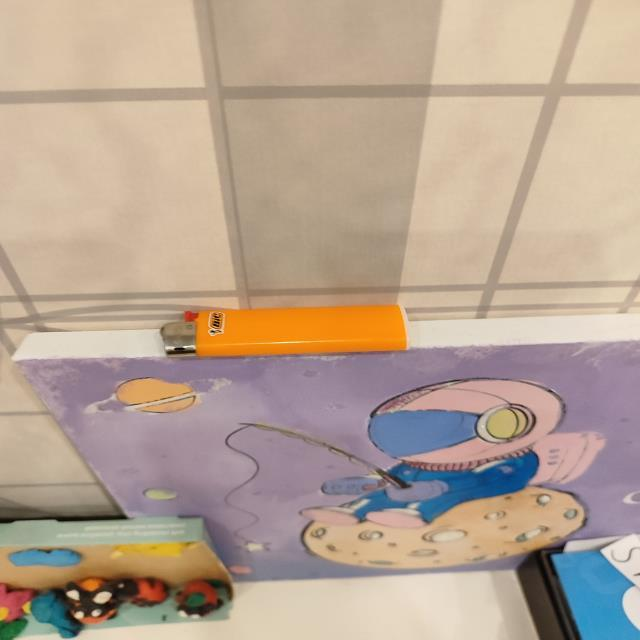lighter: (161, 305, 407, 356)
